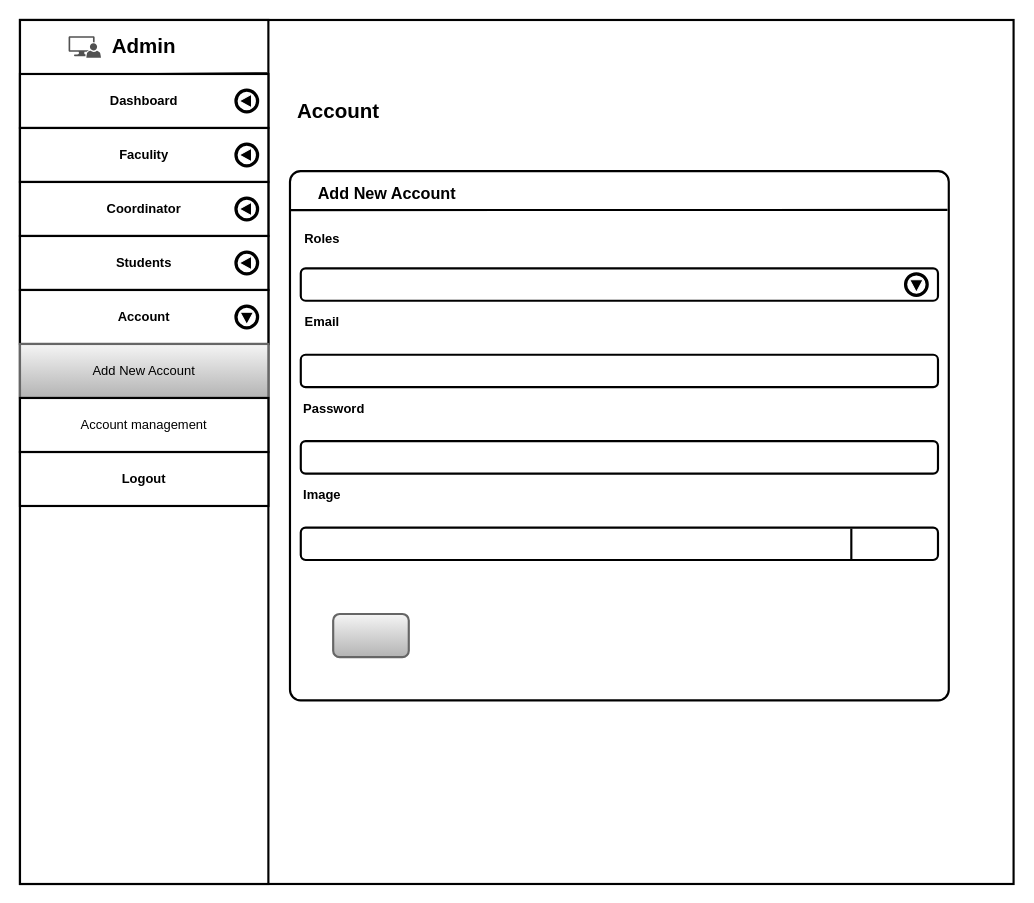
The diagram is 1034 pixels wide and 903 high, and some of its shapes have lost their labels. Each missing label, with the centre of its shape:
"Add" belongs at (370,635).
"Browse" belongs at (619,543).
